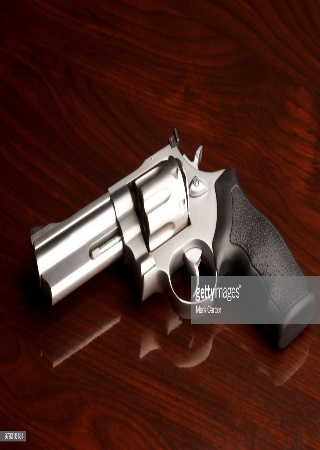handgun: (18, 111, 315, 356)
